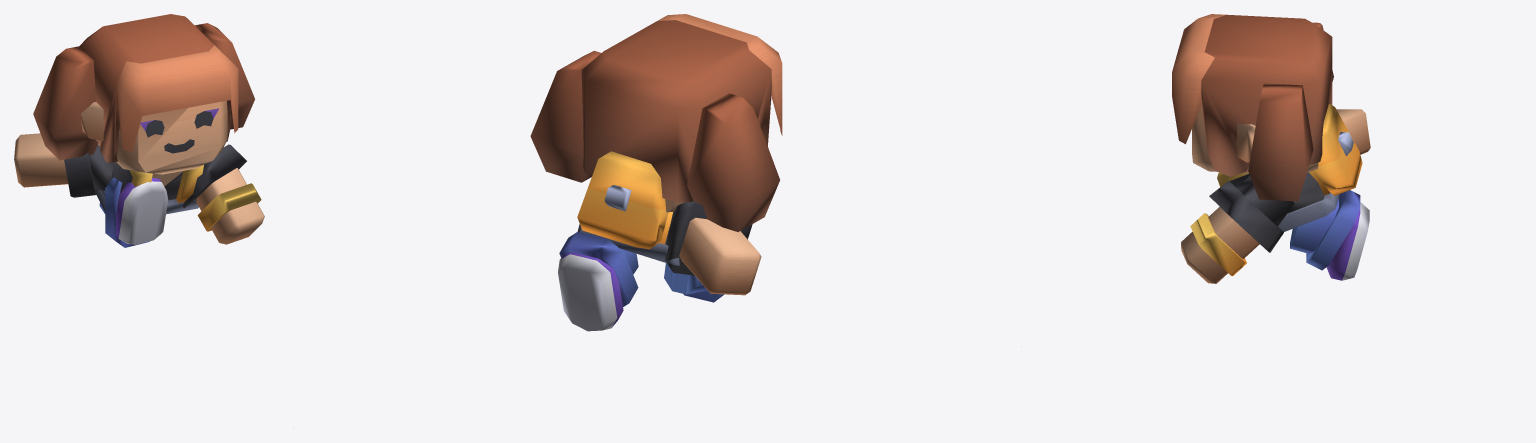
File: climber_sprint_8.glb
3 views of the same model, side by side, from view 1: azimuth 30°, elevation 25°; view 2: azimuth 150°, elevation 25°; view 3: azimuth 270°, elevation 25° (orthographic). The views are drawn at different scales.
Visible parts, largest first — view 1: climber-sprint-8; view 2: climber-sprint-8; view 3: climber-sprint-8.
Part boxes in pixels (<box>): climber-sprint-8: <box>14,14,264,247</box>; climber-sprint-8: <box>530,14,782,331</box>; climber-sprint-8: <box>1172,14,1370,283</box>.
Bounding box in the file's own units: 1.2 × 0.8128 × 1.2.
1 material, 1 textured.
